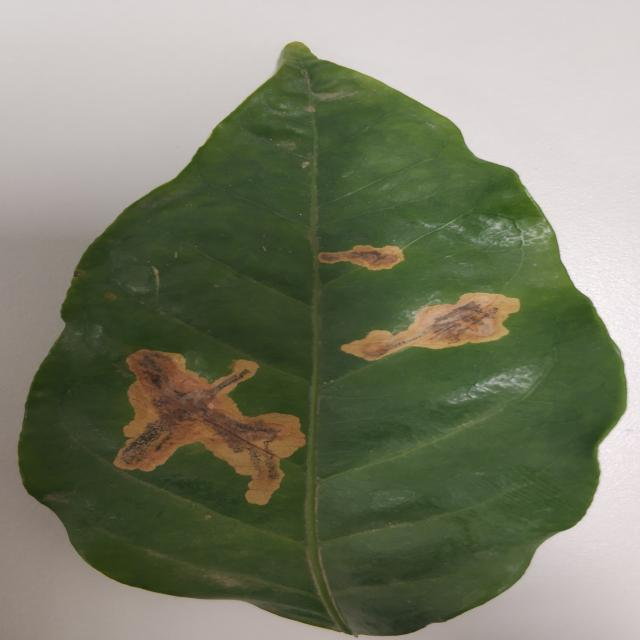Plaga-Minador: (17, 43, 629, 640)
